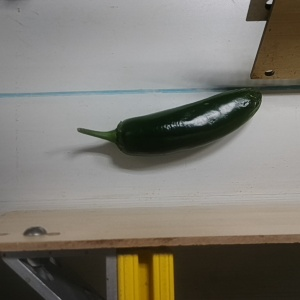Cut Point: (105, 118, 138, 154)
